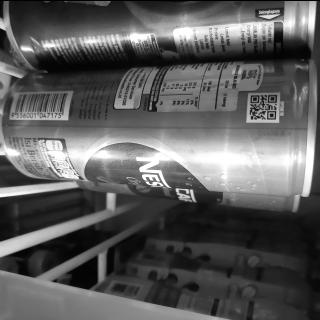alumunium_can: (0, 61, 320, 232)
